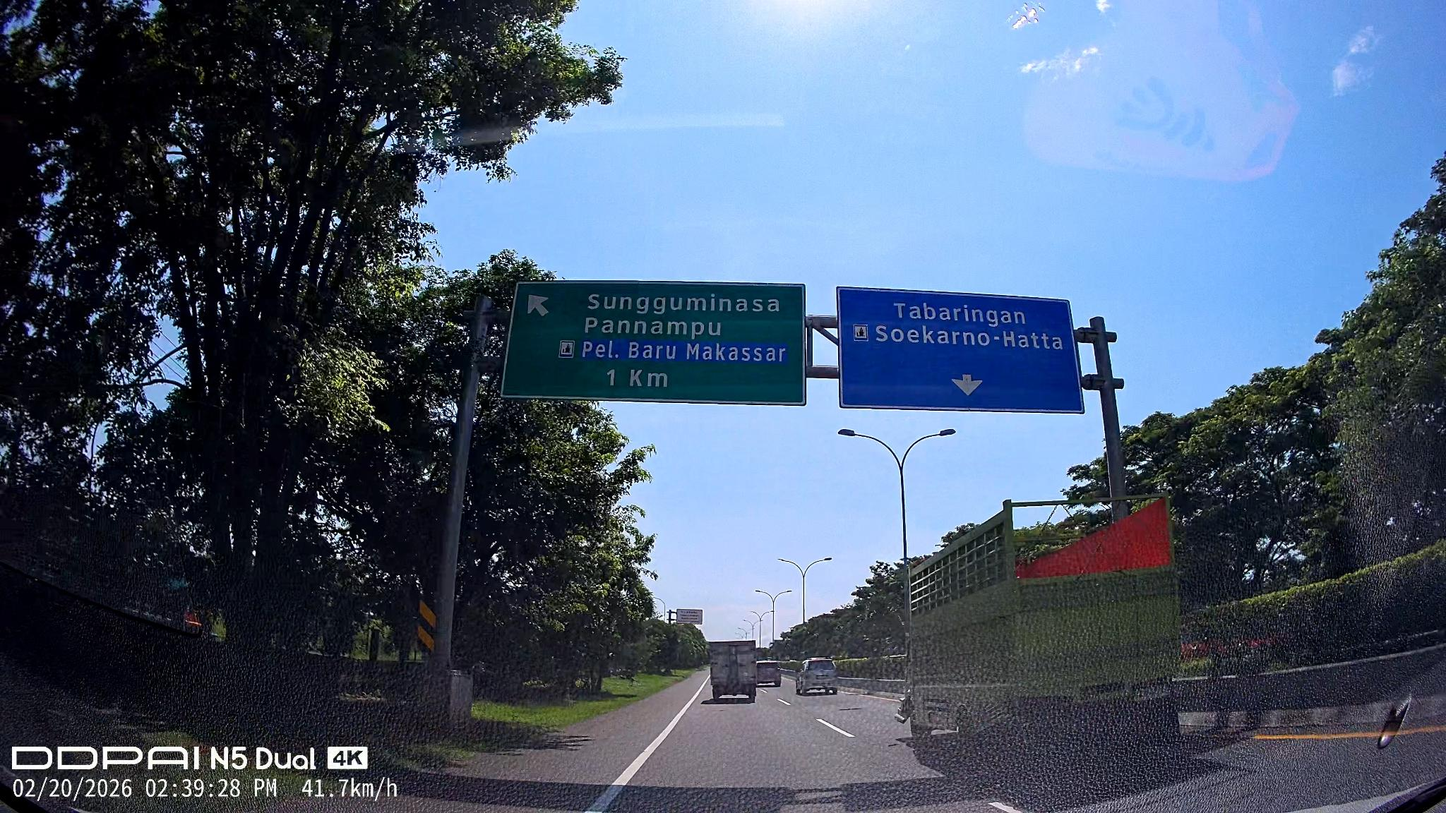rambu_teks: (499, 280, 808, 409), (834, 284, 1087, 416)
